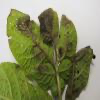Potato leaf early blight: (6, 7, 59, 93), (0, 60, 56, 99), (66, 45, 96, 99), (57, 13, 77, 63), (38, 7, 60, 45)
